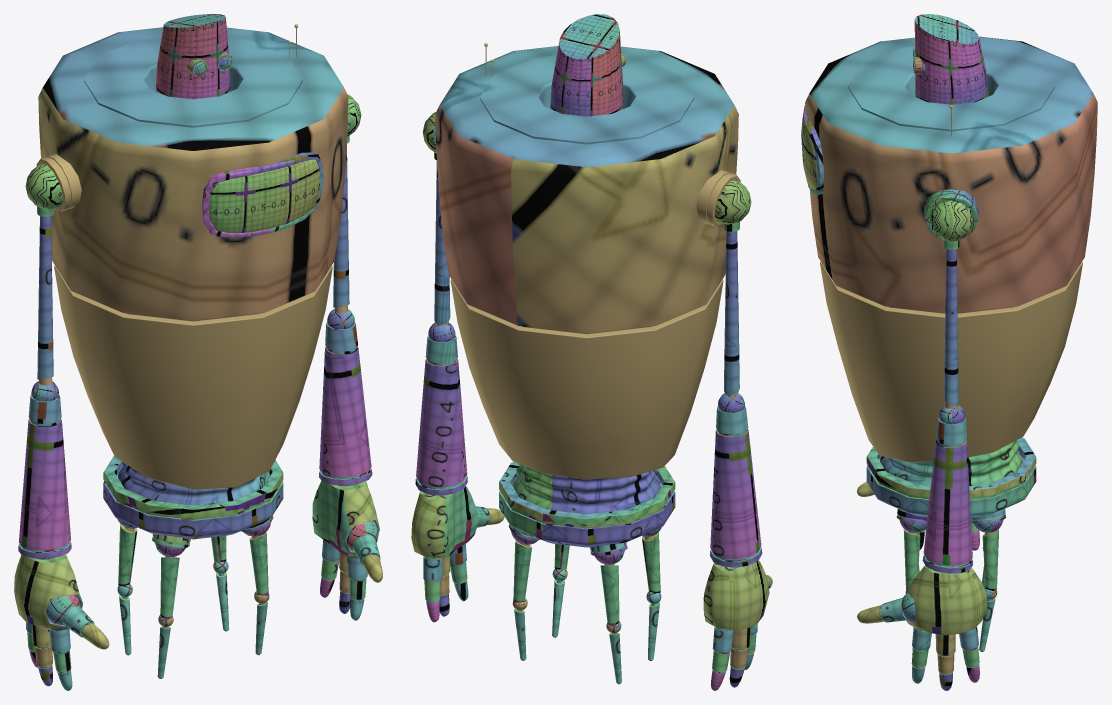
File: RubyJohnsonRobotUV.fbx
3 renders of one model, left to right at view 1: azimuth 30°, elevation 25°; view 2: azimuth 150°, elevation 25°; view 3: azimuth 270°, elevation 25°, orthographic. The views are drawn at different scales.
Visible parts, largest first — view 1: Torso_Geo, R_Elbow_Geo, Hip_Geo, L_Elbow_Geo, Head_Geo, R_Shoulder_Geo, R_Hand_Geo, L_Hand_Geo, Spine_Geo, L_Shoulder_Geo, R_FT_Thigh_Geo, R_Finger_01_Joint_01_Geo (+7 smaller); view 2: Torso_Geo, Hip_Geo, R_Elbow_Geo, L_Elbow_Geo, Head_Geo, Spine_Geo, R_Hand_Geo, L_Hand_Geo, R_Shoulder_Geo, L_Shoulder_Geo, R_BK_Thigh_Geo, L_BK_Thigh_Geo (+5 smaller); view 3: Torso_Geo, L_Elbow_Geo, Head_Geo, Hip_Geo, L_Hand_Geo, L_Shoulder_Geo, Spine_Geo, L_BK_Thigh_Geo, L_FT_Thigh_Geo, L_Finger_01_Joint_01_Geo, L_BK_Knee_Geo.
Boxes of the visible parts, left/top/right/bottom form: Torso_Geo: left=36, top=24, right=350, bottom=489; R_Elbow_Geo: left=18, top=381, right=71, bottom=558; Hip_Geo: left=103, top=456, right=283, bottom=547; L_Elbow_Geo: left=319, top=309, right=372, bottom=485; Head_Geo: left=155, top=14, right=233, bottom=99; R_Shoulder_Geo: left=25, top=164, right=62, bottom=385; R_Hand_Geo: left=14, top=554, right=83, bottom=629; L_Hand_Geo: left=312, top=481, right=379, bottom=556; Spine_Geo: left=118, top=461, right=268, bottom=505; L_Shoulder_Geo: left=333, top=94, right=361, bottom=313; R_FT_Thigh_Geo: left=155, top=543, right=185, bottom=618; R_Finger_01_Joint_01_Geo: left=45, top=594, right=94, bottom=637; Torso_Geo: left=433, top=43, right=740, bottom=479; Hip_Geo: left=499, top=462, right=675, bottom=555; R_Elbow_Geo: left=710, top=393, right=762, bottom=567; L_Elbow_Geo: left=415, top=322, right=467, bottom=495; Head_Geo: left=550, top=14, right=626, bottom=116; Spine_Geo: left=513, top=464, right=660, bottom=514; R_Hand_Geo: left=703, top=560, right=769, bottom=630; L_Hand_Geo: left=411, top=486, right=478, bottom=558; R_Shoulder_Geo: left=715, top=180, right=751, bottom=396; L_Shoulder_Geo: left=422, top=112, right=450, bottom=325; R_BK_Thigh_Geo: left=594, top=551, right=624, bottom=625; L_BK_Thigh_Geo: left=511, top=531, right=538, bottom=602; Torso_Geo: left=801, top=36, right=1097, bottom=462; L_Elbow_Geo: left=922, top=405, right=972, bottom=573; Head_Geo: left=913, top=14, right=988, bottom=104; Hip_Geo: left=866, top=437, right=1036, bottom=523; L_Hand_Geo: left=907, top=565, right=987, bottom=635; L_Shoulder_Geo: left=930, top=200, right=972, bottom=408; Spine_Geo: left=880, top=440, right=1022, bottom=485; L_BK_Thigh_Geo: left=974, top=520, right=1003, bottom=590; L_FT_Thigh_Geo: left=899, top=520, right=926, bottom=590; L_Finger_01_Joint_01_Geo: left=881, top=592, right=916, bottom=622; L_BK_Knee_Geo: left=979, top=587, right=997, bottom=651.
Bounding box in the file's own units: 9.14 × 16.07 × 7.09.
3 materials, 3 textured.
